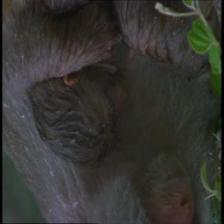monkey: (22, 52, 132, 162), (138, 149, 209, 221)
